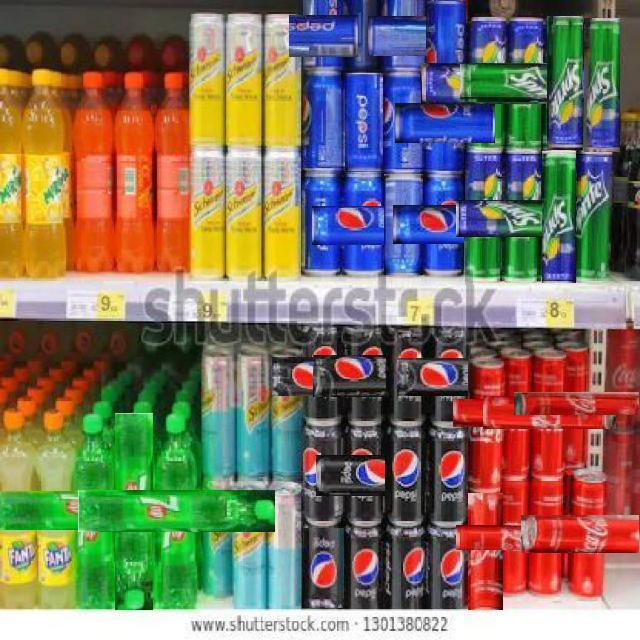Drinks: (77, 490, 275, 532), (0, 410, 38, 610), (38, 410, 76, 608), (115, 412, 153, 610), (0, 492, 193, 530), (422, 62, 555, 104), (469, 356, 507, 493), (465, 151, 503, 285), (456, 199, 590, 237), (460, 65, 595, 102), (546, 15, 583, 150), (583, 17, 620, 152), (576, 153, 613, 287), (541, 151, 576, 283), (521, 515, 640, 553), (302, 69, 345, 173), (482, 396, 616, 429), (313, 354, 414, 397), (386, 325, 429, 426), (302, 172, 343, 276), (302, 428, 345, 526), (468, 490, 503, 610), (384, 73, 425, 173), (385, 426, 426, 526), (427, 426, 468, 526), (396, 102, 495, 143), (383, 174, 423, 275), (530, 480, 564, 598), (344, 72, 384, 172), (272, 357, 374, 396), (316, 456, 415, 496), (312, 206, 413, 245), (393, 205, 494, 244), (397, 358, 499, 396), (453, 399, 586, 426), (301, 527, 344, 608), (387, 525, 428, 608), (345, 527, 386, 608), (429, 527, 467, 608), (456, 525, 577, 550), (514, 391, 640, 415), (289, 14, 358, 57), (425, 0, 466, 72), (367, 16, 439, 56)
